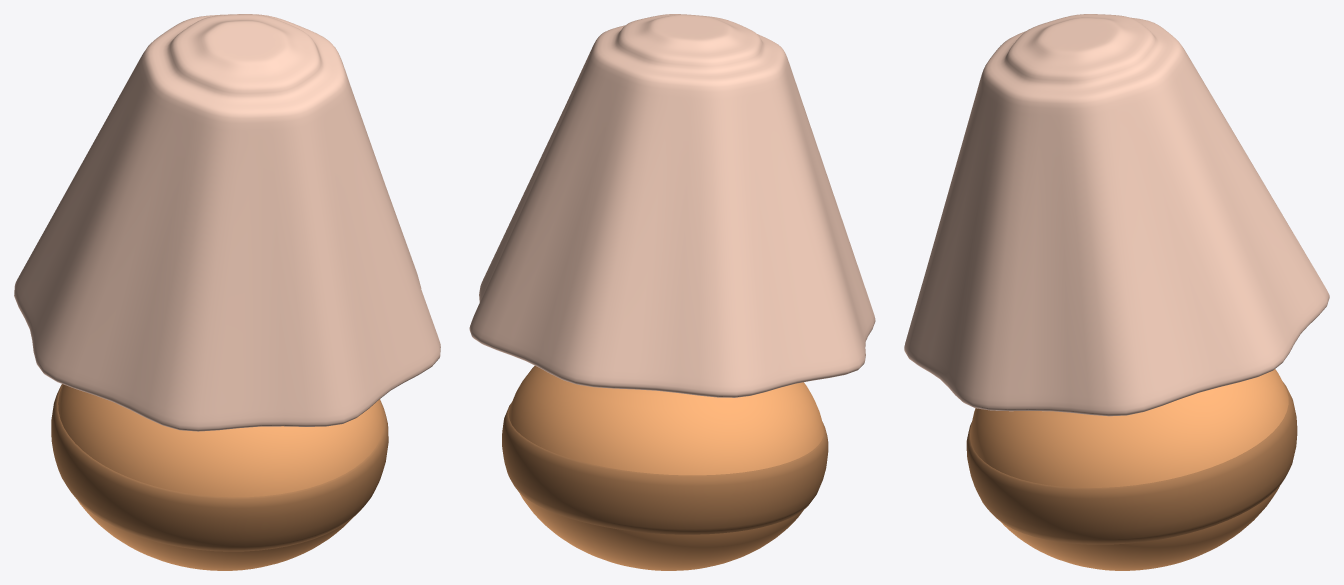
Rendered from Lamp.fbx.
The picture shows the model from 3 angles, left to right: view 1: azimuth 30°, elevation 25°; view 2: azimuth 150°, elevation 25°; view 3: azimuth 270°, elevation 25°; orthographic projection. The views are drawn at different scales.
Visible parts, largest first — view 1: Cylinder.013, Sphere, Sphere.001; view 2: Cylinder.013, Sphere, Sphere.001; view 3: Cylinder.013, Sphere, Sphere.001.
Part boxes in pixels (left/top/right/bottom): Cylinder.013: left=14, top=14, right=440, bottom=431; Sphere: left=58, top=384, right=384, bottom=570; Sphere.001: left=51, top=384, right=388, bottom=551; Cylinder.013: left=469, top=14, right=875, bottom=397; Sphere: left=508, top=366, right=823, bottom=570; Sphere.001: left=502, top=402, right=828, bottom=534; Cylinder.013: left=904, top=14, right=1329, bottom=416; Sphere: left=970, top=369, right=1288, bottom=570; Sphere.001: left=966, top=381, right=1297, bottom=544.
Bounding box in the file's own units: 408 × 548 × 406.
